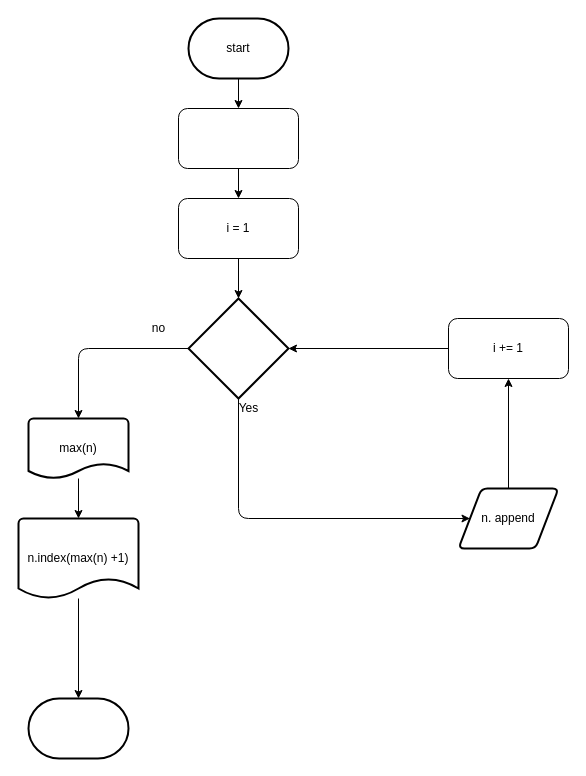
The diagram is 586 pixels wide and 776 high, and some of its shapes have lost their labels. The shapes that lost their labels are listed below. From the top down, each one's centre as x and y in pixels, then its label:
At point (238, 138): "n = list [ ]".
At point (238, 348): "i < 10".
At point (78, 728): "finish".
